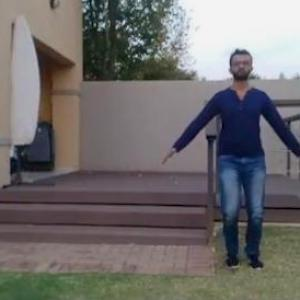land: (153, 49, 300, 276)
